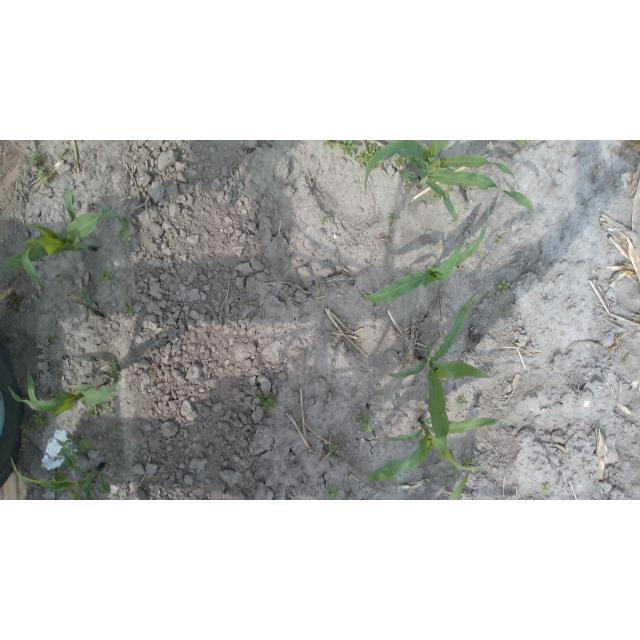Maize: (388, 291, 496, 473), (363, 142, 537, 227), (1, 185, 132, 292), (359, 203, 491, 304), (365, 416, 519, 489), (8, 354, 120, 422), (10, 440, 113, 499), (445, 465, 475, 499)
Weeds: (322, 141, 383, 170), (20, 411, 45, 445), (43, 318, 57, 374), (27, 153, 49, 183), (355, 412, 376, 437), (254, 392, 275, 411), (98, 269, 115, 283), (395, 155, 407, 168), (457, 397, 467, 411), (514, 141, 533, 148), (388, 214, 399, 226), (499, 280, 511, 291), (313, 283, 326, 293), (320, 214, 331, 224), (626, 354, 635, 366), (328, 444, 338, 452), (247, 300, 258, 307), (545, 484, 552, 493), (126, 306, 133, 314)
